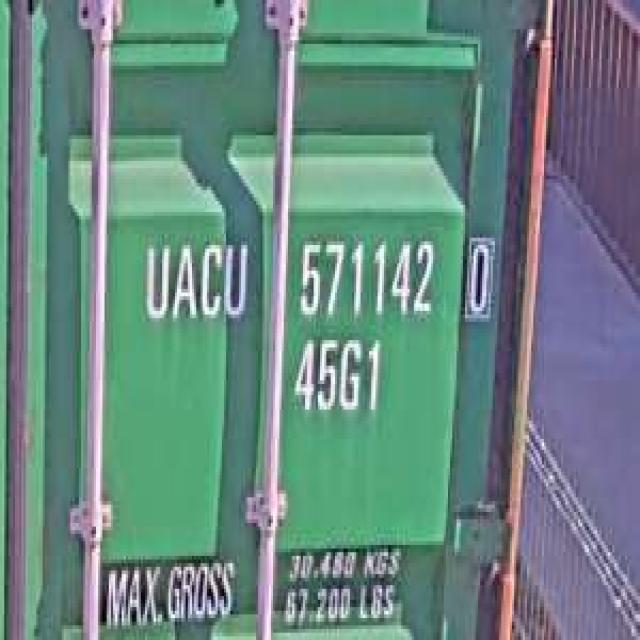dv: (463, 227, 497, 322)
owner: (138, 230, 252, 333)
serial: (292, 227, 438, 325)
size: (288, 329, 384, 421)
